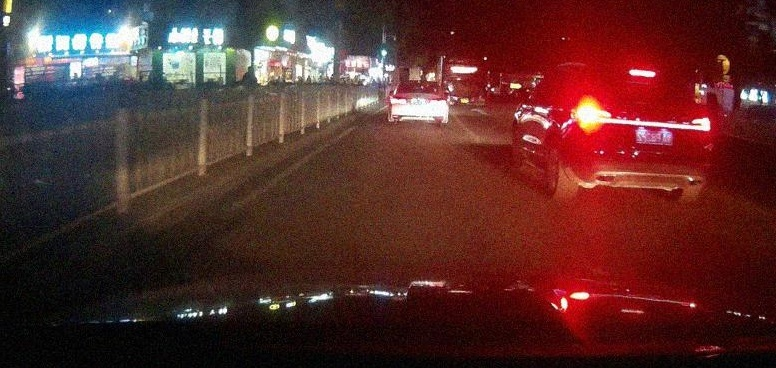L_light: (571, 107, 612, 125), (389, 96, 406, 104)
R_light: (686, 116, 712, 133), (430, 97, 447, 104)
T_light: (629, 70, 655, 77), (414, 83, 425, 86)
night-left: (567, 63, 715, 205)
night-no: (387, 79, 449, 125)
